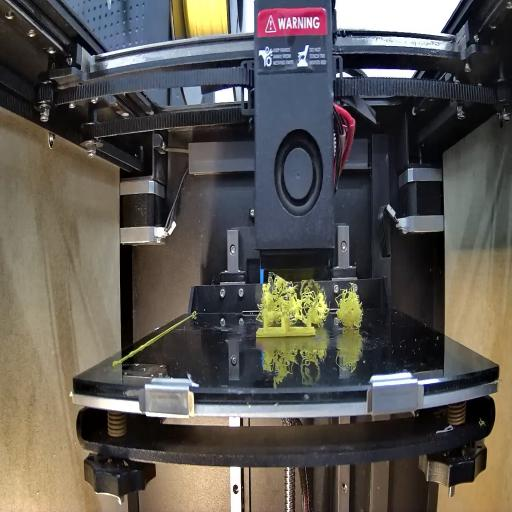spaghetti: (258, 273, 328, 325), (336, 286, 365, 333)
